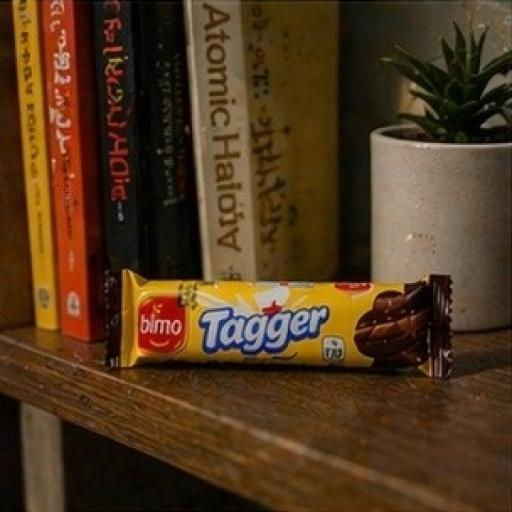tagger: (50, 188, 498, 446)
